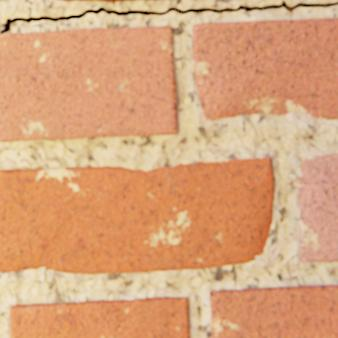brick: (0, 157, 272, 272), (0, 26, 176, 141), (192, 18, 337, 120), (10, 295, 188, 337), (209, 283, 337, 337), (297, 152, 337, 260), (63, 0, 131, 1)
crack: (0, 1, 337, 33)
